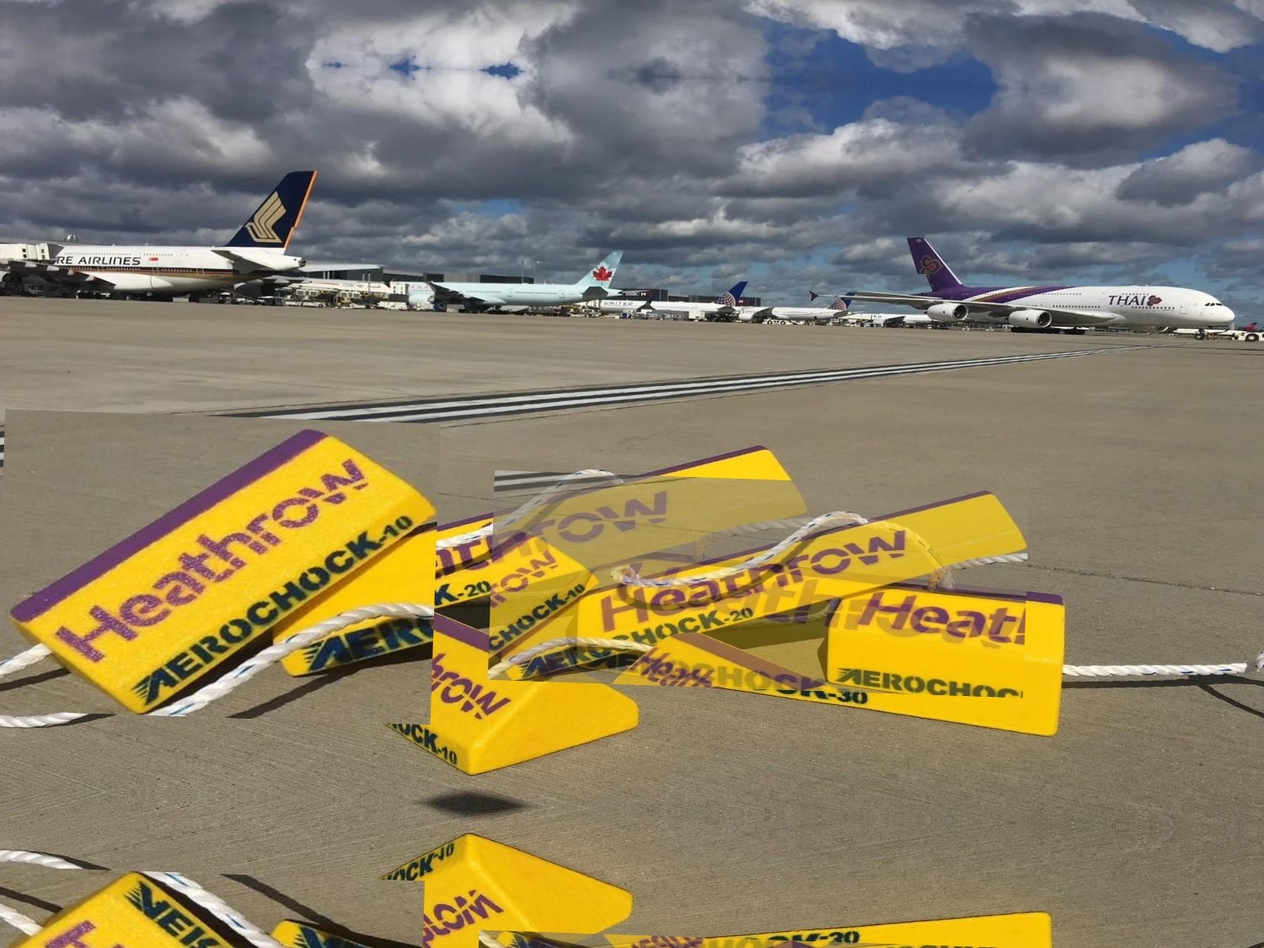chock: (185, 422, 811, 686), (0, 409, 440, 725), (488, 470, 1030, 698), (569, 539, 1071, 738), (7, 481, 316, 700), (319, 604, 644, 784), (312, 826, 637, 948)
